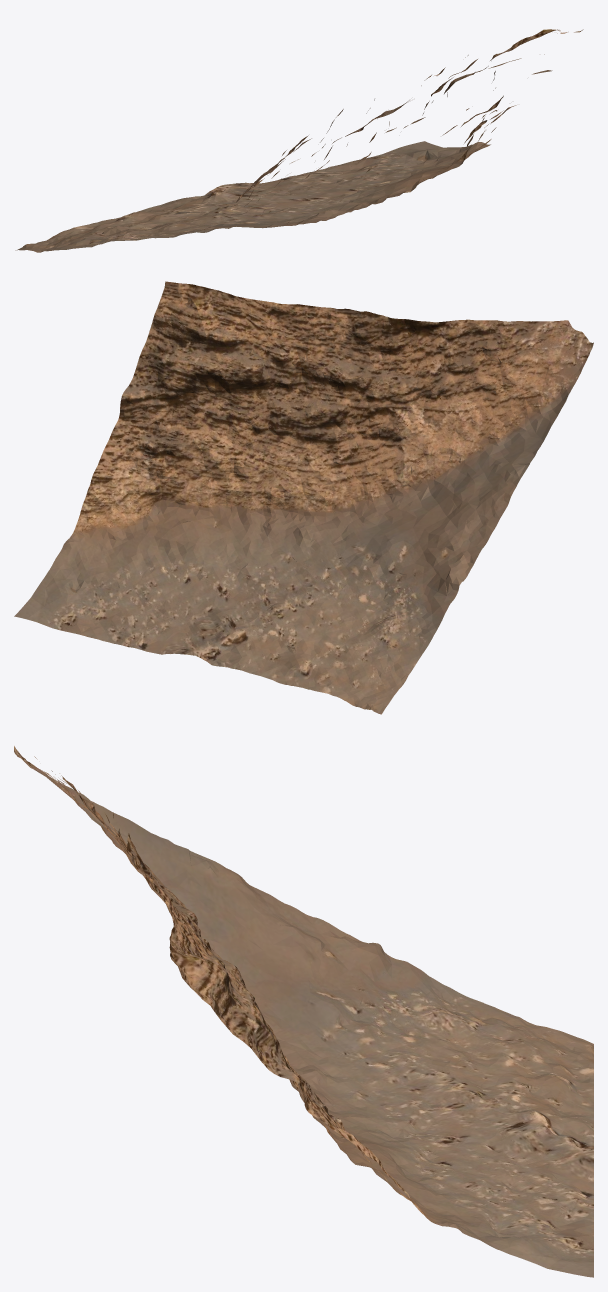
The picture shows the model from 3 angles, top to bottom: view 1: azimuth 30°, elevation 25°; view 2: azimuth 150°, elevation 25°; view 3: azimuth 270°, elevation 25°; orthographic projection. The views are drawn at different scales.
Size of the model in its own units: 1.04 by 0.6315 by 1.04.
Materials: 3 (3 with a texture image).
